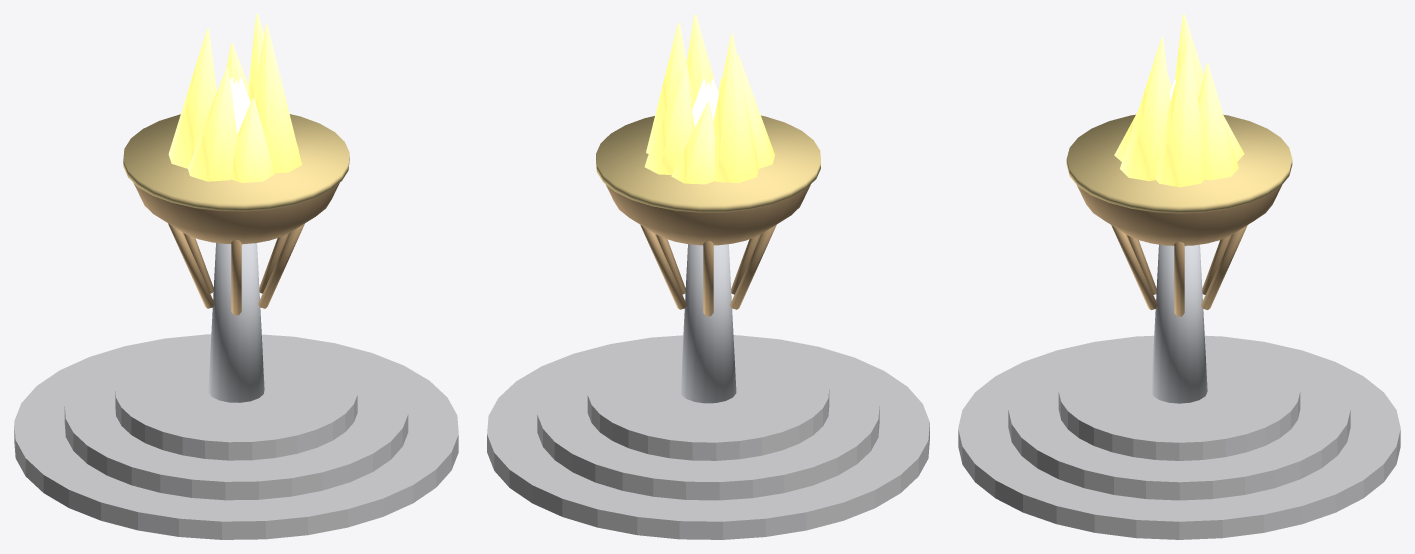
The model's file is cauldron.glb.
The picture shows the model from 3 angles, left to right: view 1: azimuth 30°, elevation 25°; view 2: azimuth 150°, elevation 25°; view 3: azimuth 270°, elevation 25°; orthographic projection.
Visible parts, largest first — view 1: cauldron; view 2: cauldron; view 3: cauldron.
Boxes of the visible parts, bbox=[...] form: cauldron: bbox=[14, 14, 458, 539]; cauldron: bbox=[487, 14, 929, 539]; cauldron: bbox=[958, 14, 1400, 539].
Bounding box in the file's own units: 4.4 × 4.6 × 4.4.
